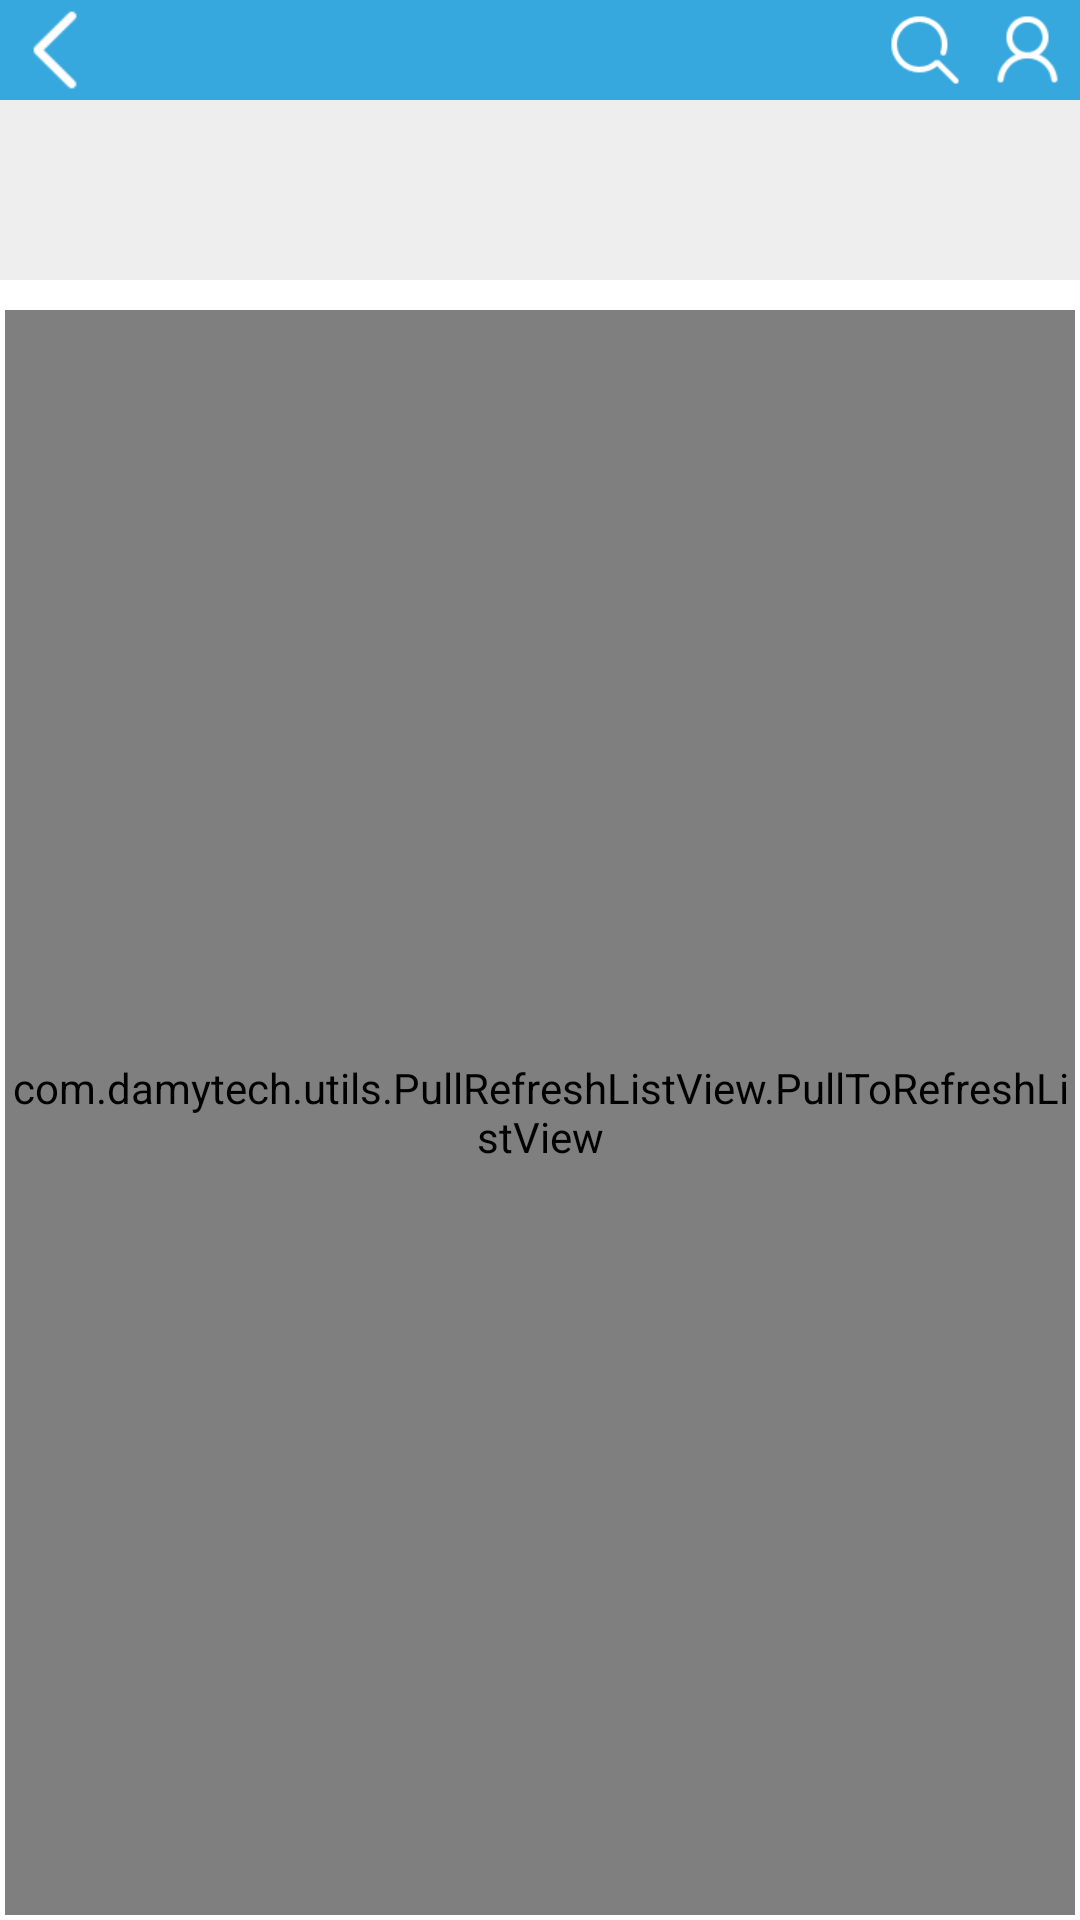

Named icons in this screenshot (1080w x 1920h) and their bounding boxes, (x1, y1, x2, y2):
leftarrowicon: (33, 11, 77, 89)
searchicon: (891, 16, 959, 84)
usericon: (997, 16, 1058, 83)
